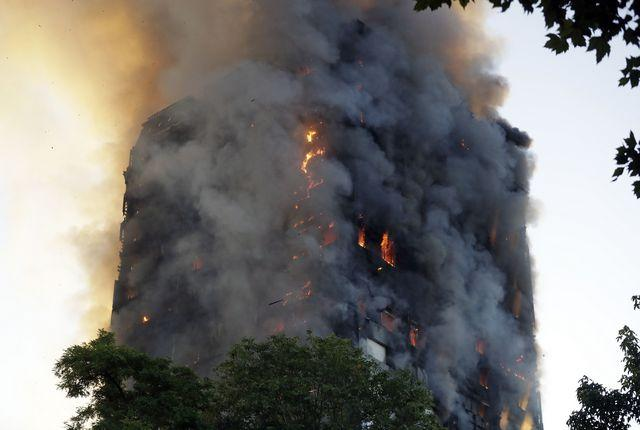Fire: (293, 110, 345, 200), (367, 229, 415, 268)
